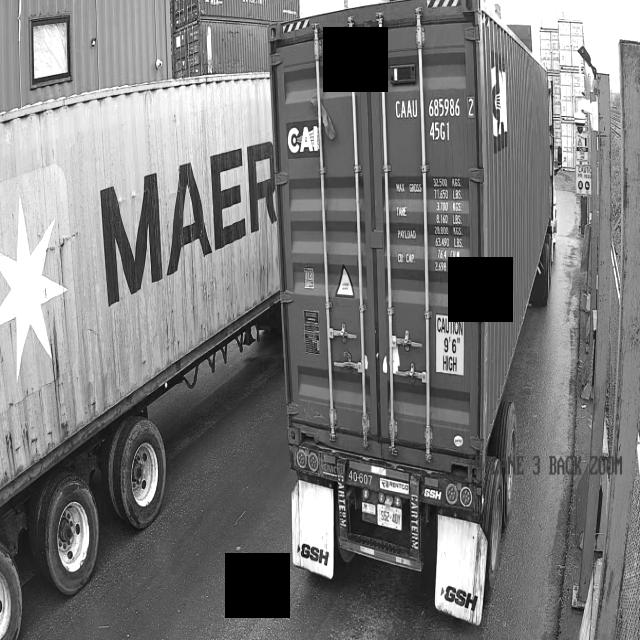container: (280, 116, 324, 157)
container_number: (393, 90, 477, 146)
license_plate: (373, 503, 403, 531)
other_container_info: (391, 167, 465, 280)
truck_with_container: (264, 0, 555, 625), (0, 73, 279, 640)
